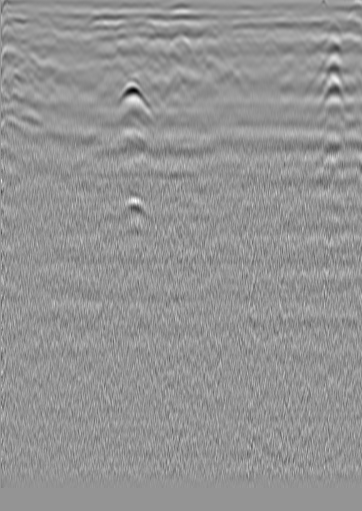가스: (112, 194, 150, 227)
상수: (292, 34, 312, 54)
오수: (38, 25, 63, 52)
우수: (169, 33, 189, 53)
